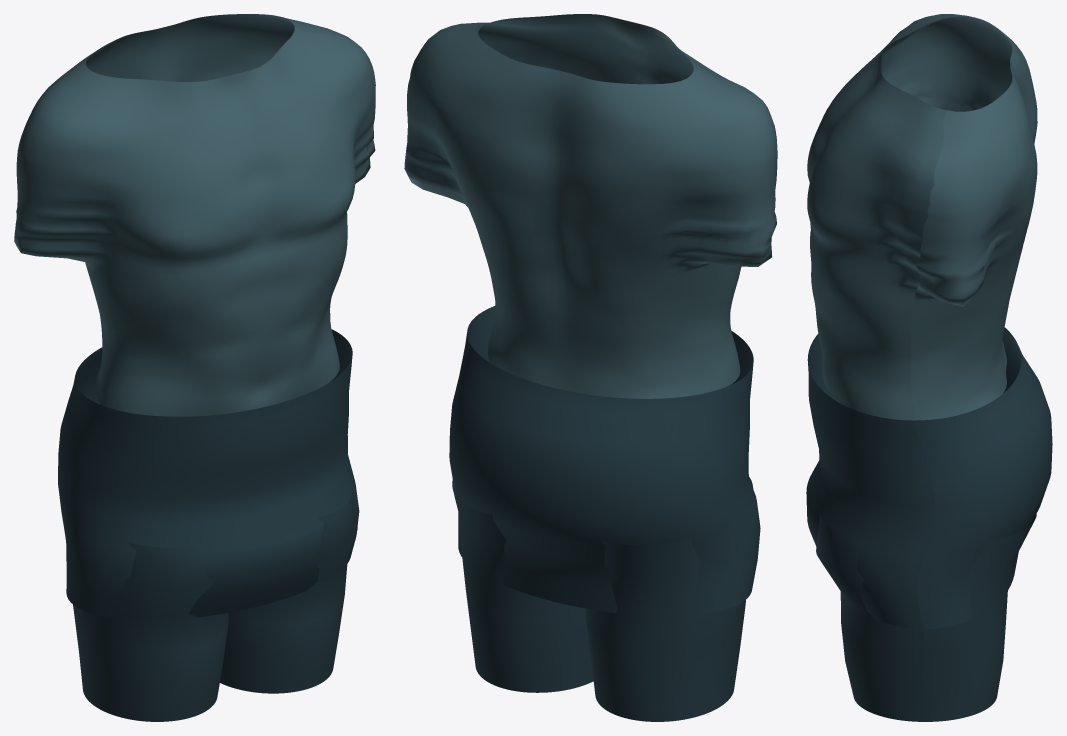
Rendered from clothes-male.glb.
3 views of the same model, side by side, from view 1: azimuth 30°, elevation 25°; view 2: azimuth 150°, elevation 25°; view 3: azimuth 270°, elevation 25° (orthographic). The views are drawn at different scales.
Parts seen in each view (by area): view 1: clothing (×4); view 2: clothing (×4); view 3: clothing (×3).
Part boxes in pixels (<box>): clothing (×4): <box>14,14,375,721</box>; clothing (×4): <box>404,14,777,721</box>; clothing (×3): <box>806,14,1052,721</box>.
Bounding box in the file's own units: 0.51 × 0.8597 × 0.3176.
